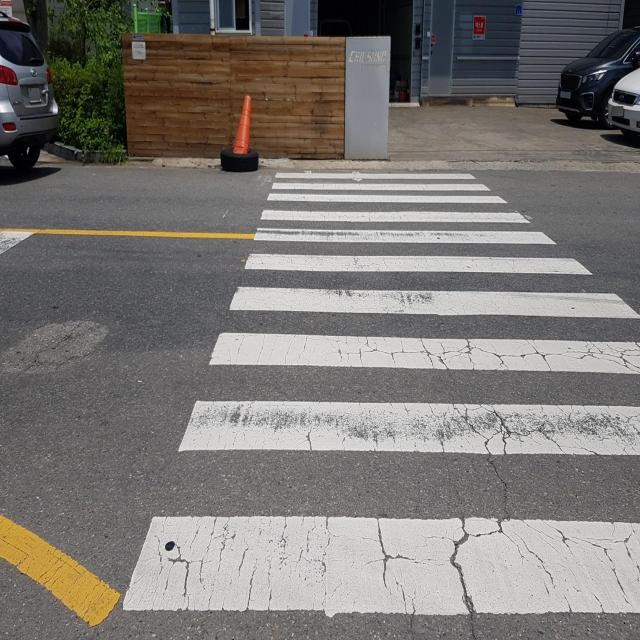횡단보도: (122, 168, 640, 618)
